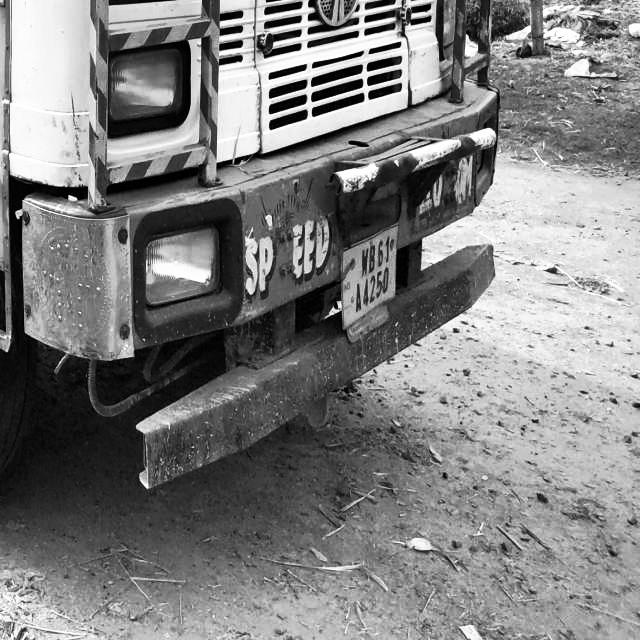HCV: (6, 5, 520, 513)
